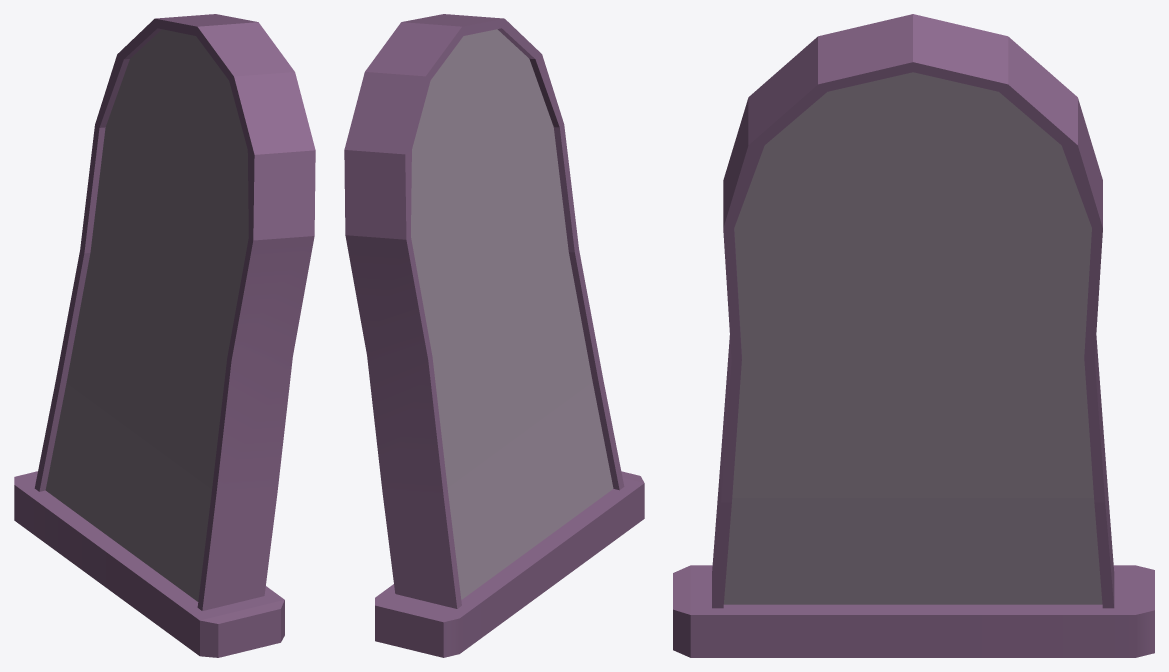
The model's file is Grave3.fbx.
3 views of the same model, side by side, from view 1: azimuth 30°, elevation 25°; view 2: azimuth 150°, elevation 25°; view 3: azimuth 270°, elevation 25° (orthographic). The views are drawn at different scales.
Visible parts, largest first — view 1: pCylinder4; view 2: pCylinder4; view 3: pCylinder4.
Part boxes in pixels (bbox=[...]): pCylinder4: bbox=[14, 14, 315, 657]; pCylinder4: bbox=[344, 14, 644, 657]; pCylinder4: bbox=[673, 14, 1154, 657].
Size of the model in its own units: 1.04 by 3.55 by 2.39.
